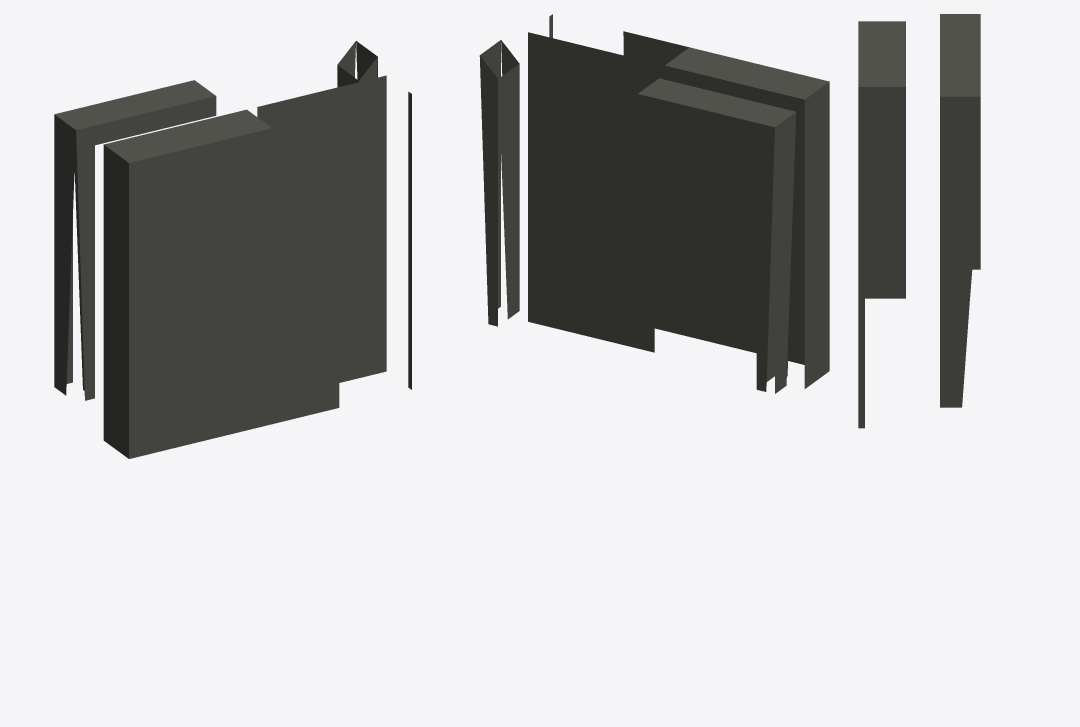
The picture shows the model from 3 angles, left to right: view 1: azimuth 30°, elevation 25°; view 2: azimuth 150°, elevation 25°; view 3: azimuth 270°, elevation 25°; orthographic projection. The views are drawn at different scales.
Bounding box in the file's own units: 0.96 × 1.82 × 0.61.
